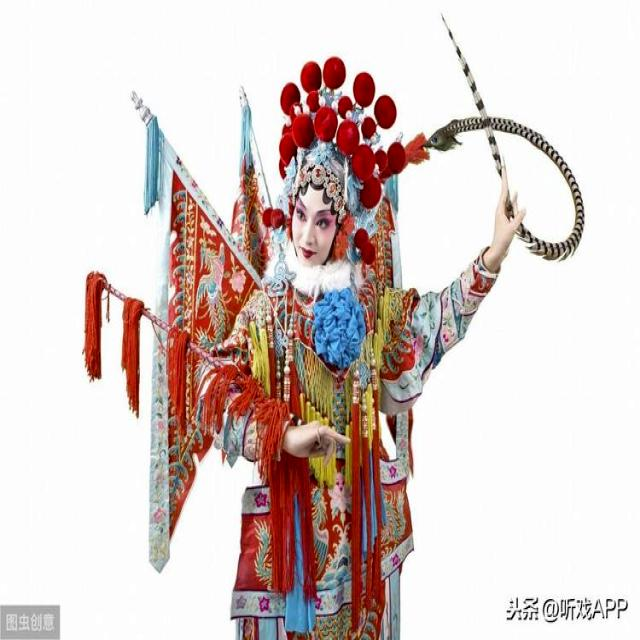Reeves-s Pheasant: (425, 18, 584, 260)
